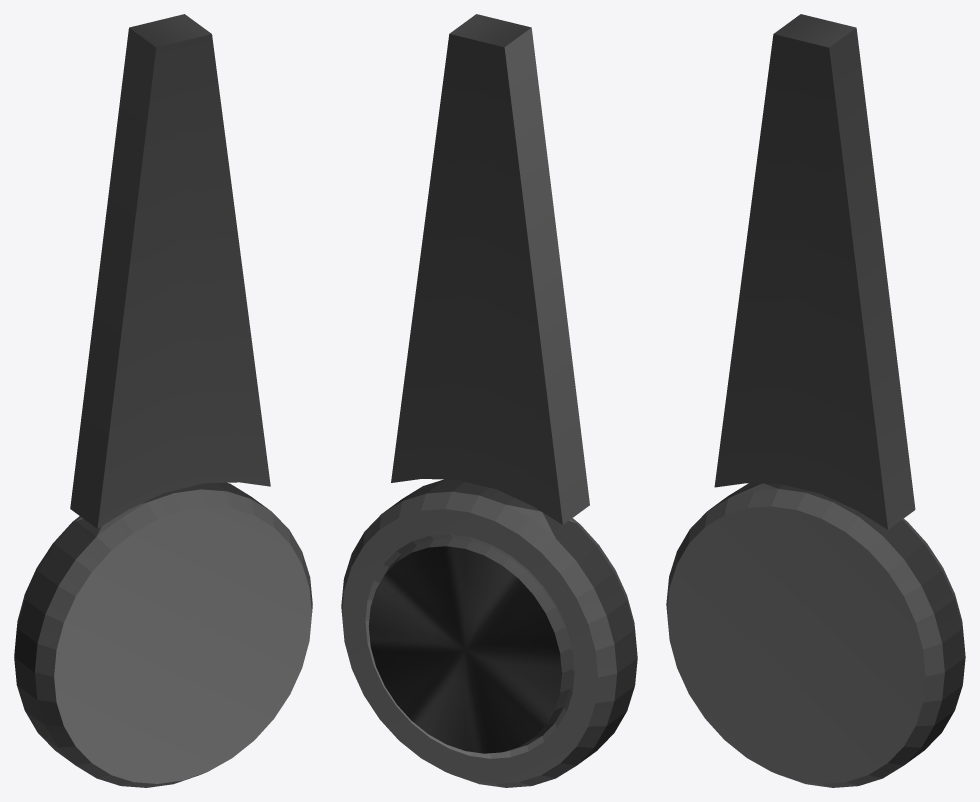
The model's file is swinger.fbx.
The picture shows the model from 3 angles, left to right: view 1: azimuth 30°, elevation 25°; view 2: azimuth 150°, elevation 25°; view 3: azimuth 330°, elevation 25°; orthographic projection.
Visible parts, largest first — view 1: Cube.011; view 2: Cube.011; view 3: Cube.011.
Part boxes in pixels (x1,y1,x2,y2): Cube.011: (14, 14, 312, 787); Cube.011: (341, 14, 637, 787); Cube.011: (666, 14, 965, 787).
Size of the model in its own units: 7.87 by 20.23 by 2.15.
